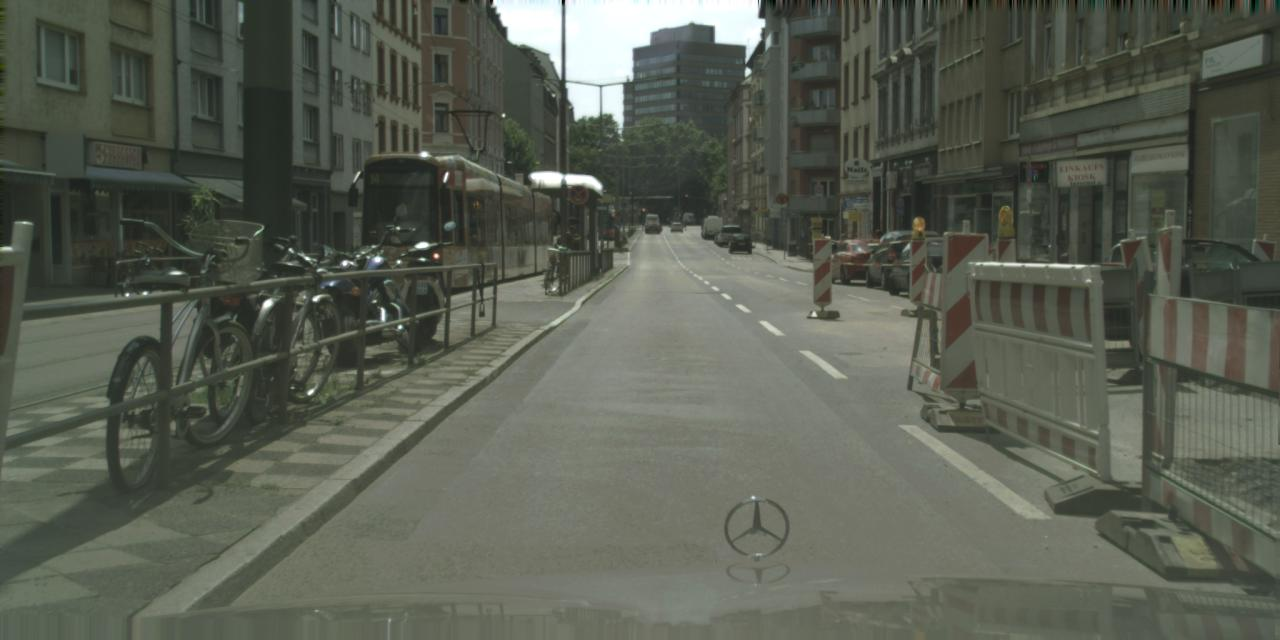ped: (561, 227, 580, 274), (867, 230, 885, 273), (554, 230, 570, 272), (568, 234, 583, 274), (835, 233, 849, 268), (845, 231, 859, 266), (683, 218, 688, 230)
